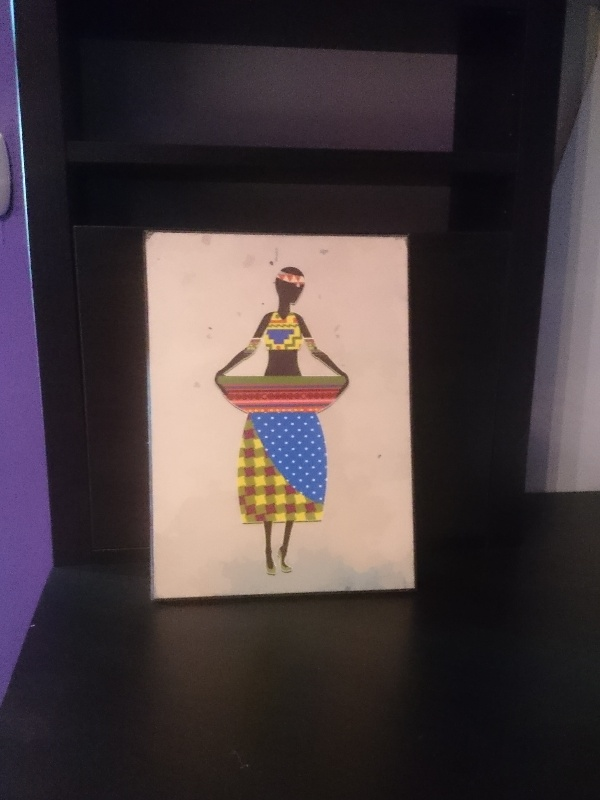my image: (150, 233, 411, 594)
